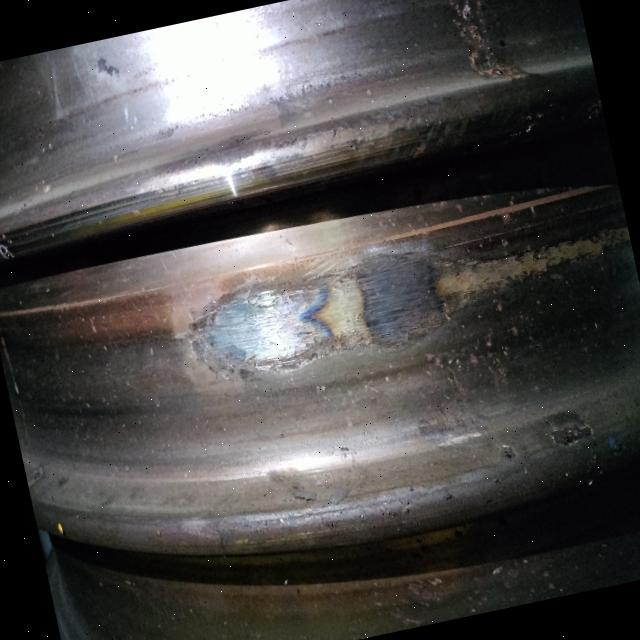flat: (175, 203, 582, 396)
